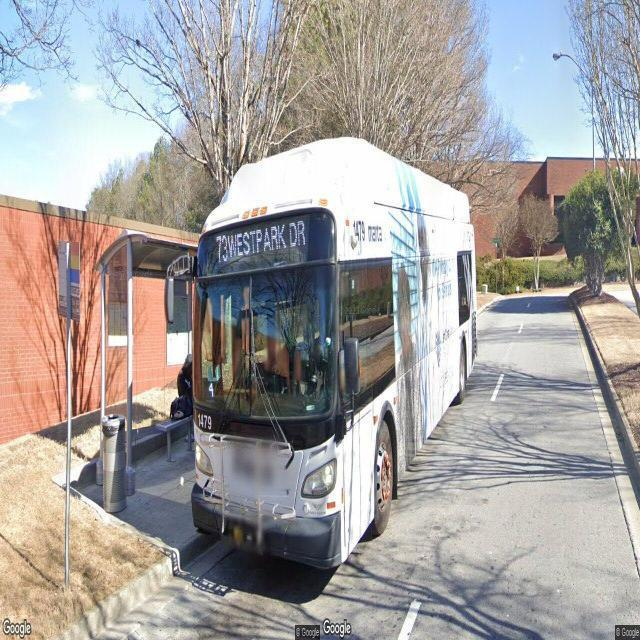seating: (156, 408, 197, 462)
shelter: (92, 227, 198, 498)
trash_can: (100, 416, 126, 514)
